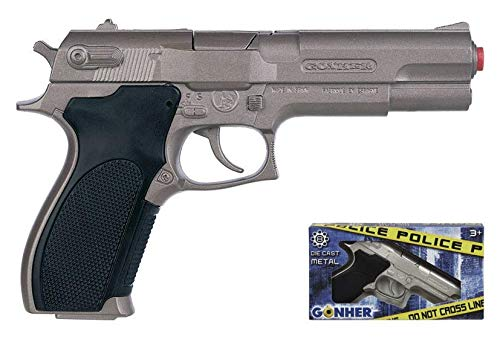Arma Falsa: (17, 17, 487, 317)
